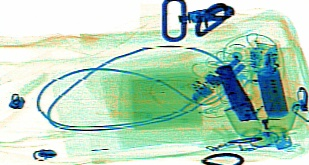lighter: (252, 84, 294, 151)
powerbank: (242, 36, 296, 125)
